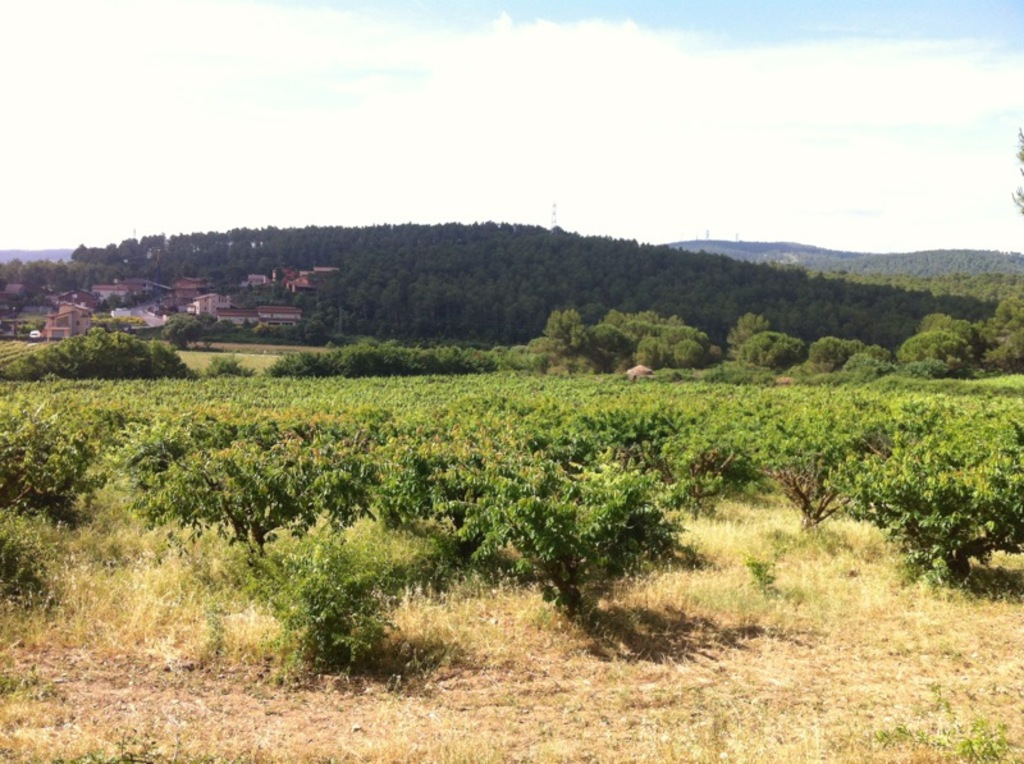Tree: (0, 127, 1023, 394)
